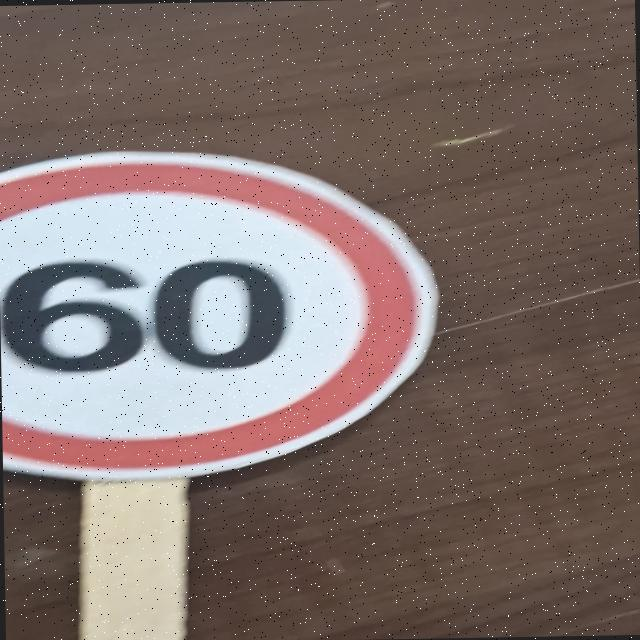Speed60: (0, 143, 445, 483)
